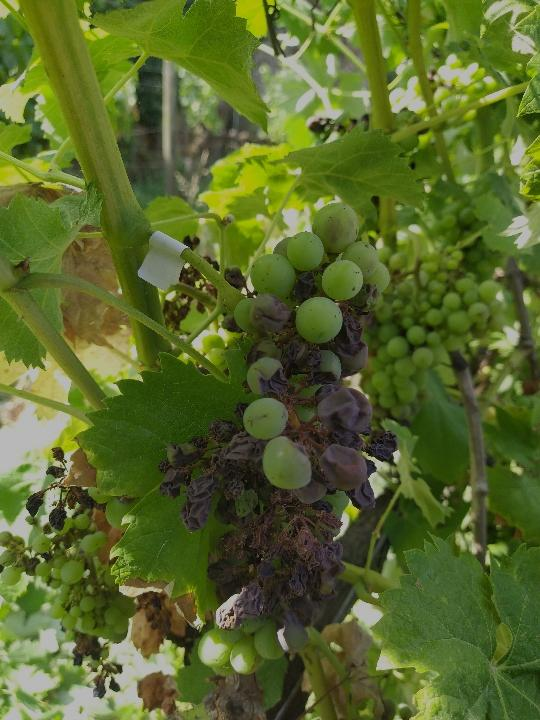grape: (158, 200, 401, 678)
